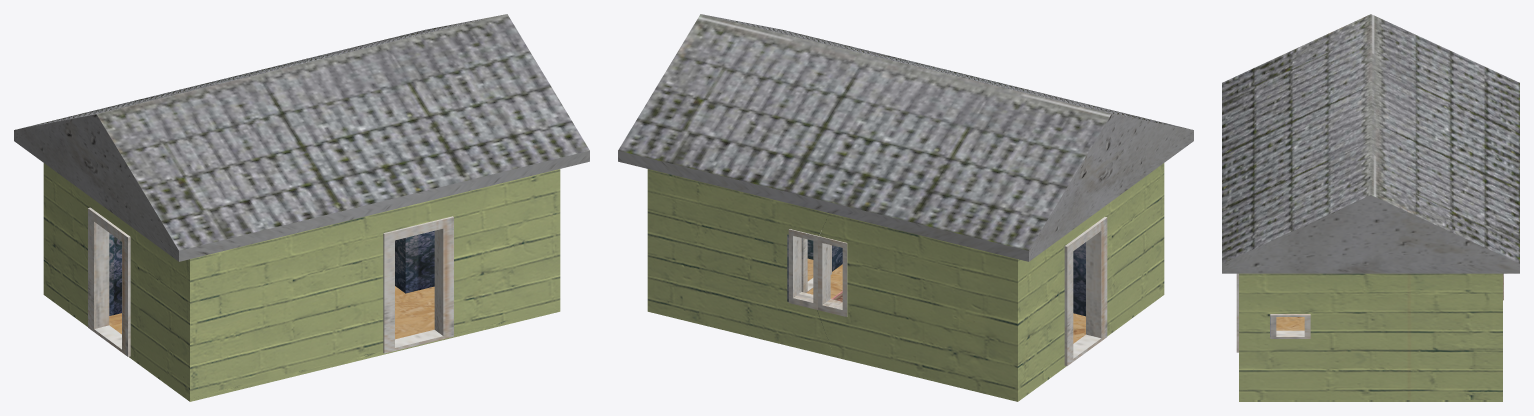
The model's file is House ver4.FBX.
The picture shows the model from 3 angles, left to right: view 1: azimuth 30°, elevation 25°; view 2: azimuth 150°, elevation 25°; view 3: azimuth 270°, elevation 25°; orthographic projection. The views are drawn at different scales.
Parts seen in each view (by area): view 1: House ver3; view 2: House ver3; view 3: House ver3.
Part boxes in pixels (<box>): House ver3: <box>14,14,589,401</box>; House ver3: <box>618,14,1193,401</box>; House ver3: <box>1222,14,1519,401</box>.
Bounding box in the file's own units: 586 × 326 × 408.
Materials: 1 (1 with a texture image).
